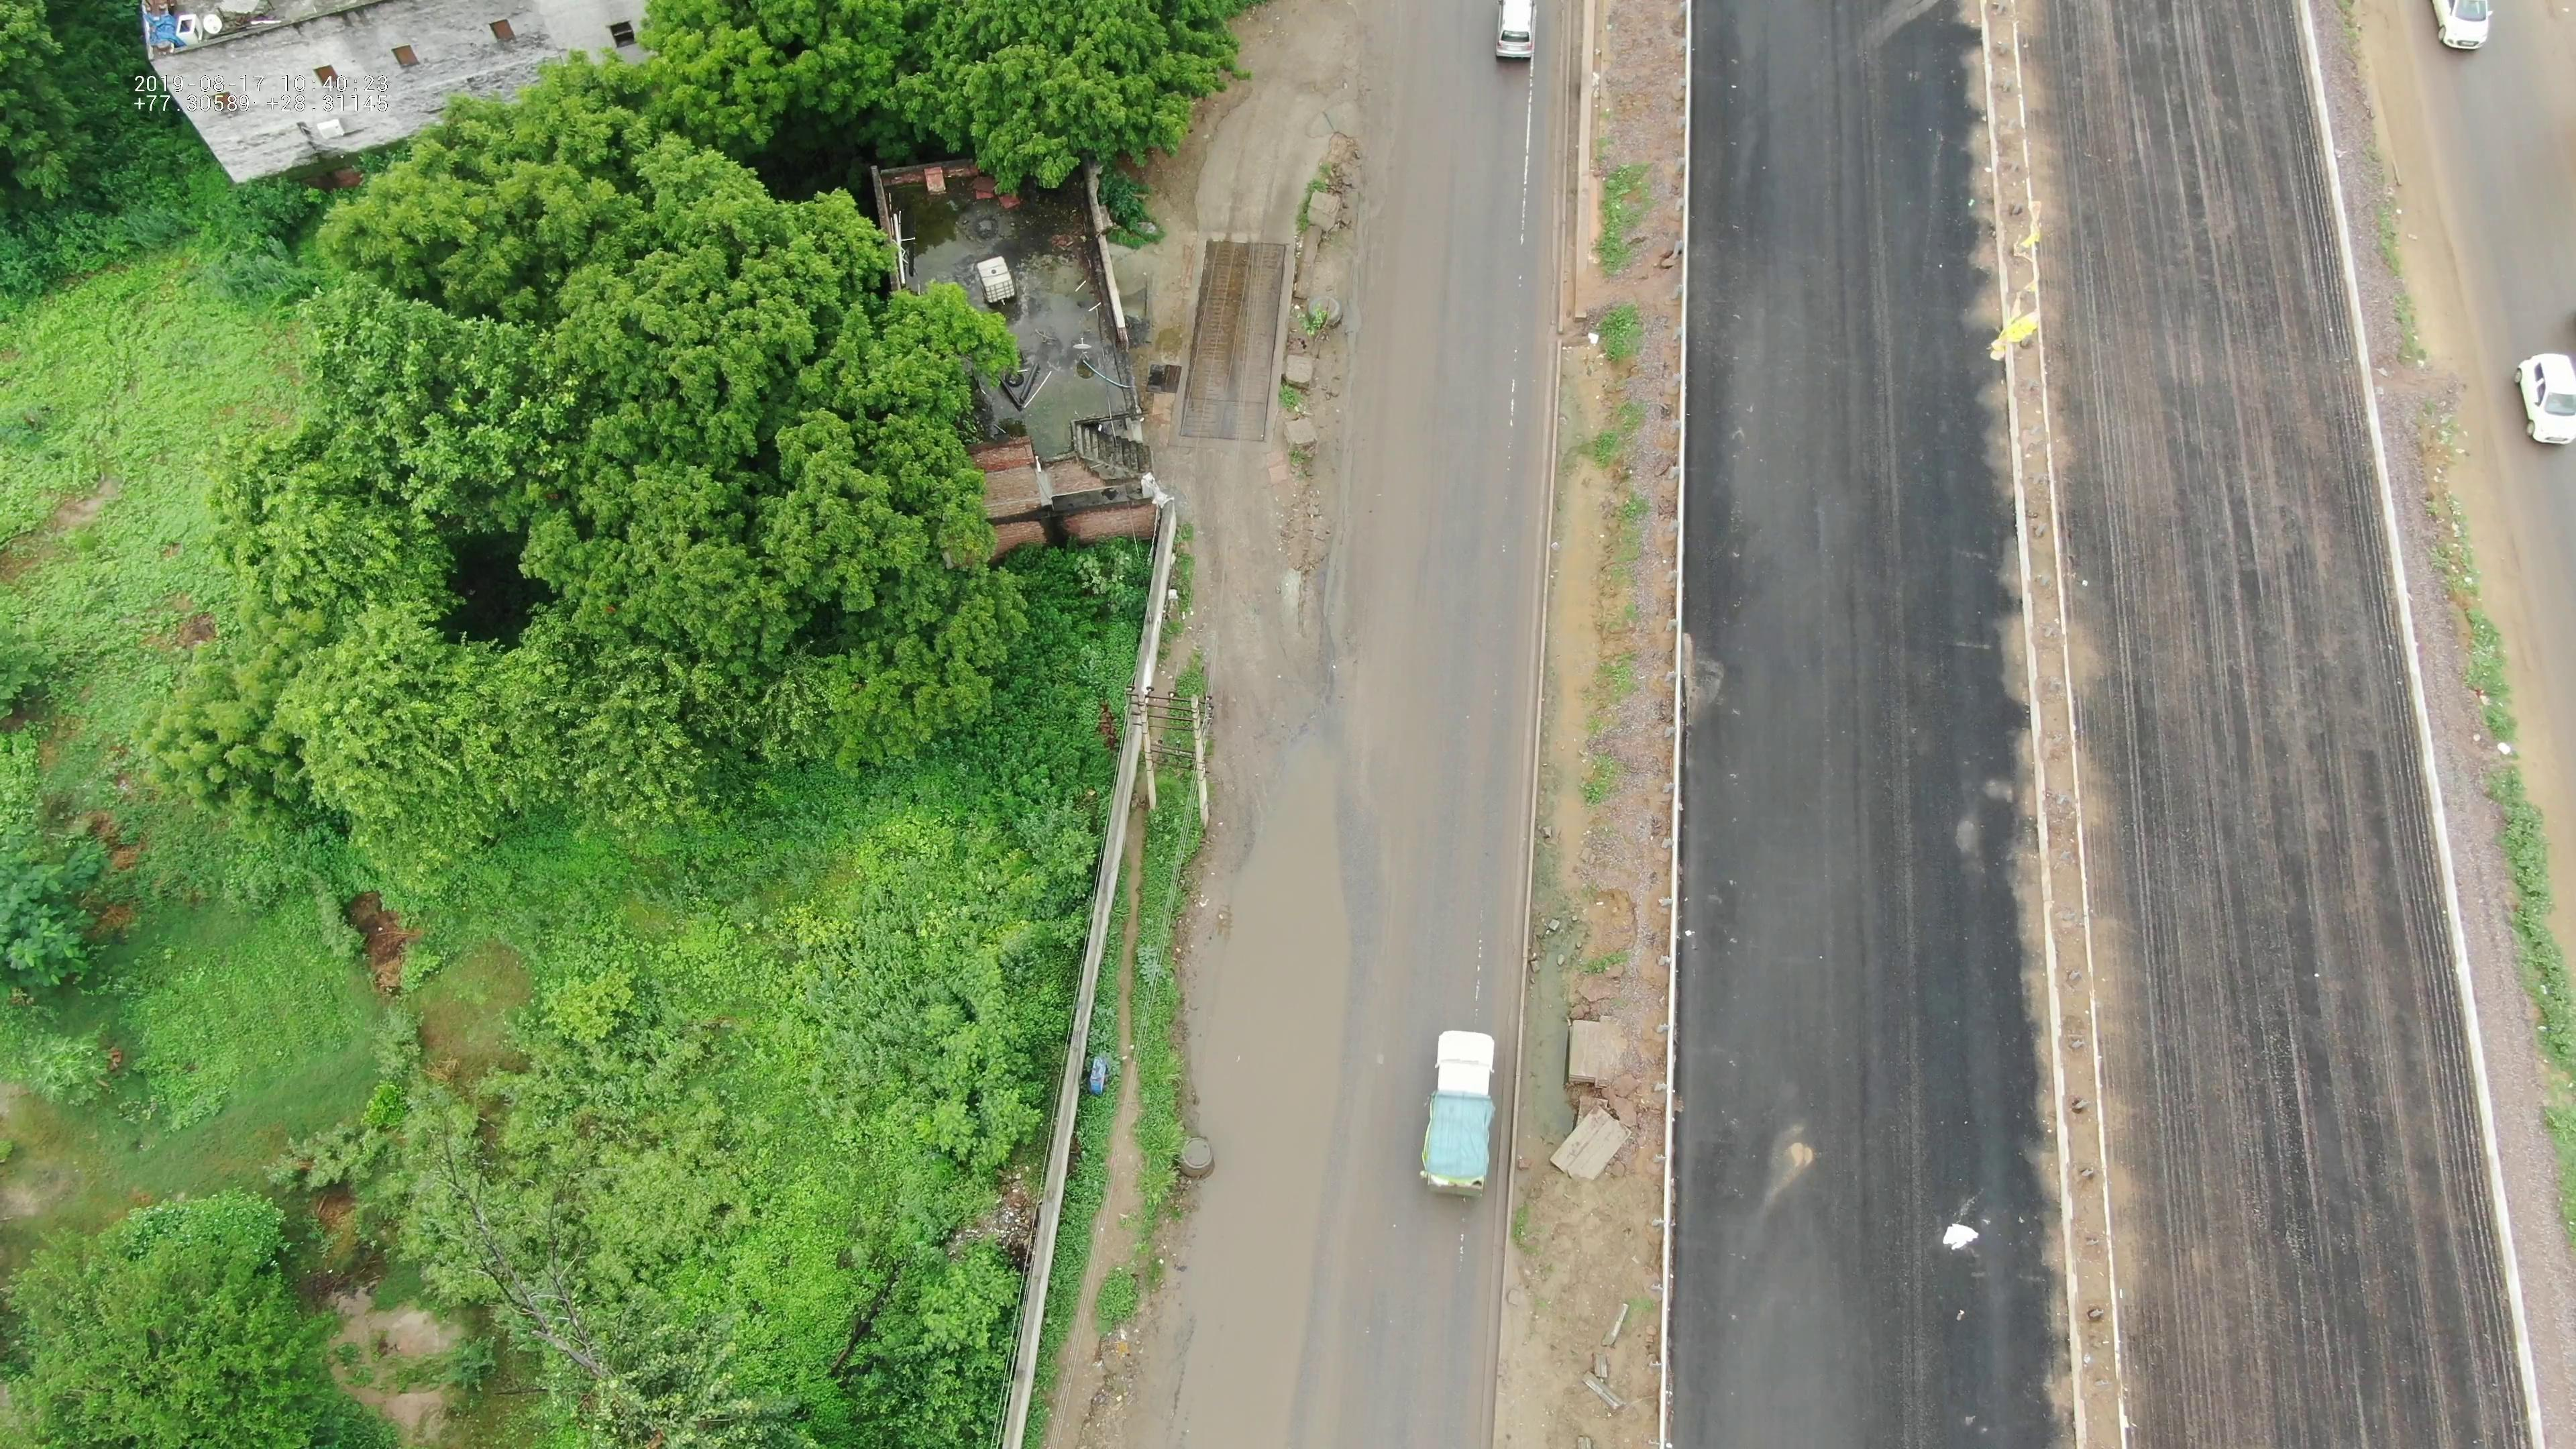Waterlogging: (1146, 750, 1366, 1414)
